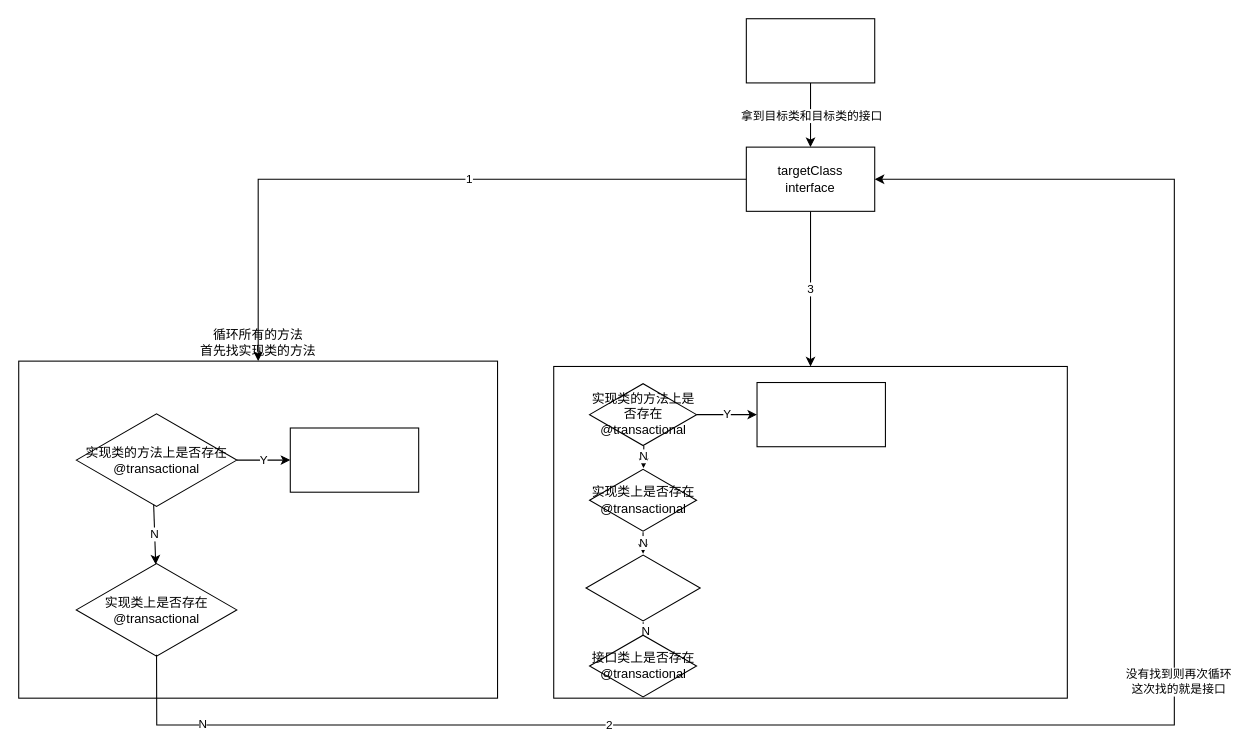
This 1250x752 diagram has some shape labels left out. Here are the shapes that lost their labels. From the top down, the centre of each, then its label:
point 810,50: canApply
point 642,587: 接口方法上是否存在@transactional
